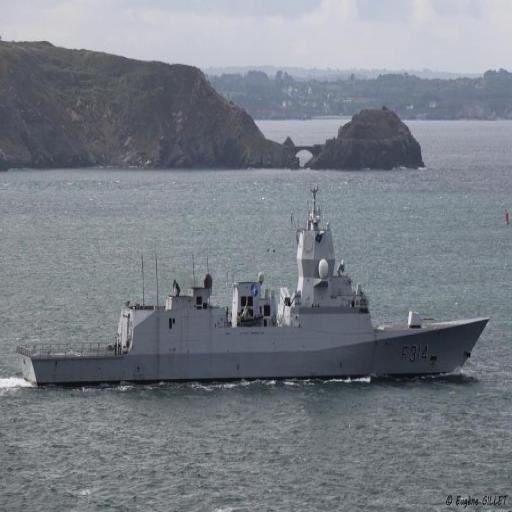Fragata: (16, 172, 498, 395)
